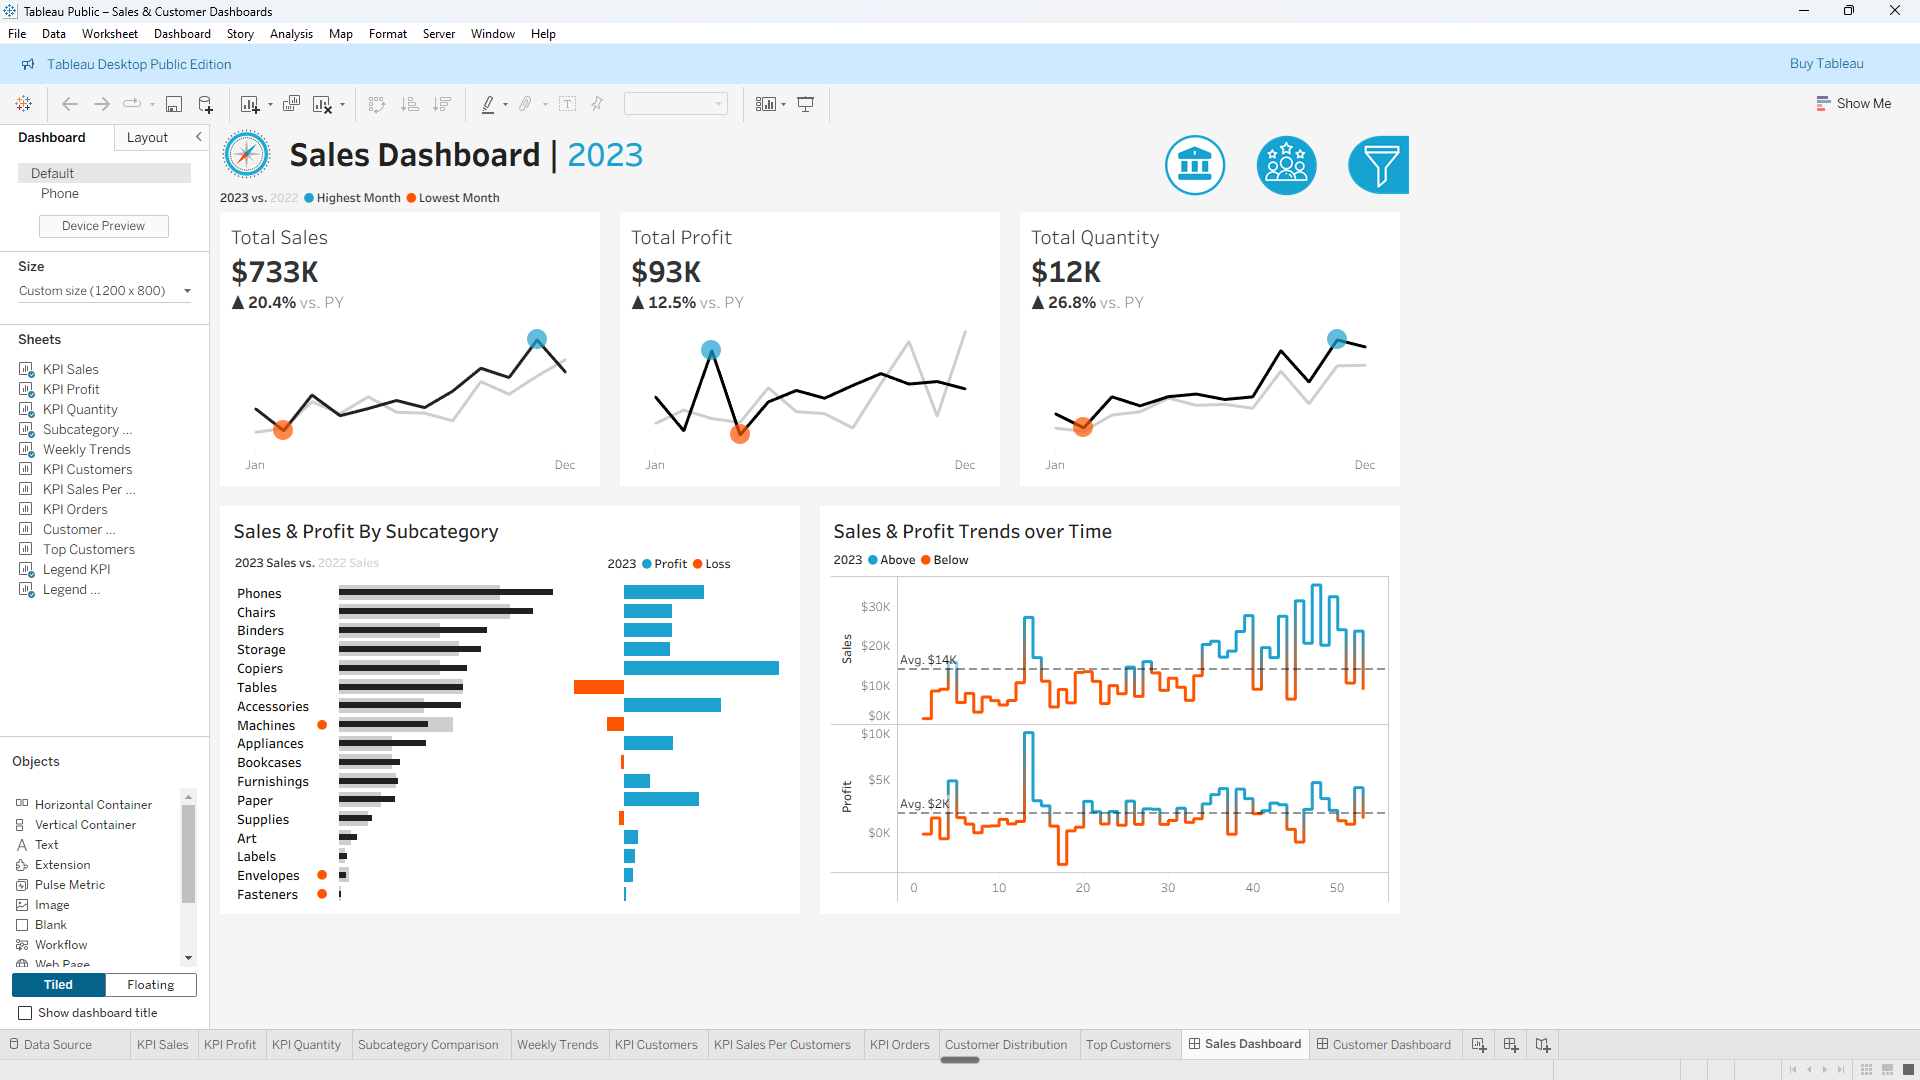

The page's visual inventory and layout, read from the dashboard file:
{"tool":"tableau","page":{"name":"Sales Dashboard","canvas":[1200,800],"ordinal":1},"visuals":[{"type":"image","param":"Image/Icon - Logo.png","box":[0,0,73,59]},{"type":"text","box":[73,0,820,59]},{"type":"dashboard-object","box":[940,6,91,70]},{"type":"dashboard-object","box":[1031,6,91,70]},{"type":"blank","box":[952,10,237,86]},{"type":"worksheet","title":"Legend KPI","mark":"Automatic","box":[0,59,1200,29]},{"type":"worksheet","title":"KPI Sales","mark":"Automatic","rows":["Calculation_721701895347843083"],"cols":["Order Date"],"box":[0,88,400,284]},{"type":"worksheet","title":"KPI Profit","mark":"Automatic","rows":["Min/Max Sales (copy)_237846410425847814"],"cols":["Order Date"],"box":[400,88,400,284]},{"type":"worksheet","title":"KPI Quantity","mark":"Automatic","rows":["Min/Max Sales (copy) (copy)_237846410425856007"],"cols":["Order Date"],"box":[800,88,400,284]},{"type":"text","box":[952,96,237,37]},{"type":"parameter","param":"[Parameters].[Parameter 1]","box":[952,133,237,55]},{"type":"text","box":[952,188,237,32]},{"type":"filter","title":"KPI Sales","param":"[federated.1kpxa041aiai2y1cl4pui1t4eju9].[none:Category:nk]","box":[952,220,237,57]},{"type":"filter","title":"KPI Sales","param":"[federated.1kpxa041aiai2y1cl4pui1t4eju9].[none:Sub-Category:nk]","box":[952,277,237,57]},{"type":"blank","box":[952,334,237,60]},{"type":"text","box":[17,389,566,34]},{"type":"text","box":[617,389,566,34]},{"type":"text","box":[952,394,237,32]},{"type":"worksheet","title":"Legend Subcategory","mark":"Automatic","box":[17,423,374,32]},{"type":"text","box":[391,423,192,32]},{"type":"text","box":[617,423,566,25]},{"type":"filter","title":"KPI Sales","param":"[federated.1kpxa041aiai2y1cl4pui1t4eju9].[none:Region:nk]","box":[952,426,237,57]},{"type":"worksheet","title":"Weekly Trends","mark":"Automatic","rows":["Calculation_721701895334993921","CY Sales (copy)_237846410424180736"],"cols":["Order Date"],"box":[617,448,566,335]},{"type":"worksheet","title":"Subcategory Comparison","mark":"Bar","rows":["Sub-Category","Calculation_2435040078806671369"],"cols":["CY Sales (copy)_721701895335804930","Calculation_721701895334993921","CY Sales (copy)_237846410424180736"],"box":[17,455,566,327.9]},{"type":"filter","title":"KPI Sales","param":"[federated.1kpxa041aiai2y1cl4pui1t4eju9].[none:State:nk]","box":[952,483,237,57]},{"type":"filter","title":"KPI Sales","param":"[federated.1kpxa041aiai2y1cl4pui1t4eju9].[none:City:nk]","box":[952,540,237,57]}]}

Visuals, with their boxes on the page's 1200x800 design canvas (x1, y1, x2, y2). These are canvas units, not pixel positions in the 1920x1080 screenshot, which may show the page scaled, cropped or inside an application window:
image: select_region(0, 0, 73, 59)
text: select_region(73, 0, 893, 59)
dashboard-object: select_region(940, 6, 1031, 76)
dashboard-object: select_region(1031, 6, 1122, 76)
blank: select_region(952, 10, 1189, 96)
"Legend KPI" worksheet: select_region(0, 59, 1200, 88)
"KPI Sales" worksheet: select_region(0, 88, 400, 372)
"KPI Profit" worksheet: select_region(400, 88, 800, 372)
"KPI Quantity" worksheet: select_region(800, 88, 1200, 372)
text: select_region(952, 96, 1189, 133)
parameter: select_region(952, 133, 1189, 188)
text: select_region(952, 188, 1189, 220)
"KPI Sales" filter: select_region(952, 220, 1189, 277)
"KPI Sales" filter: select_region(952, 277, 1189, 334)
blank: select_region(952, 334, 1189, 394)
text: select_region(17, 389, 583, 423)
text: select_region(617, 389, 1183, 423)
text: select_region(952, 394, 1189, 426)
"Legend Subcategory" worksheet: select_region(17, 423, 391, 455)
text: select_region(391, 423, 583, 455)
text: select_region(617, 423, 1183, 448)
"KPI Sales" filter: select_region(952, 426, 1189, 483)
"Weekly Trends" worksheet: select_region(617, 448, 1183, 783)
"Subcategory Comparison" worksheet (Bar marks): select_region(17, 455, 583, 783)
"KPI Sales" filter: select_region(952, 483, 1189, 540)
"KPI Sales" filter: select_region(952, 540, 1189, 597)
